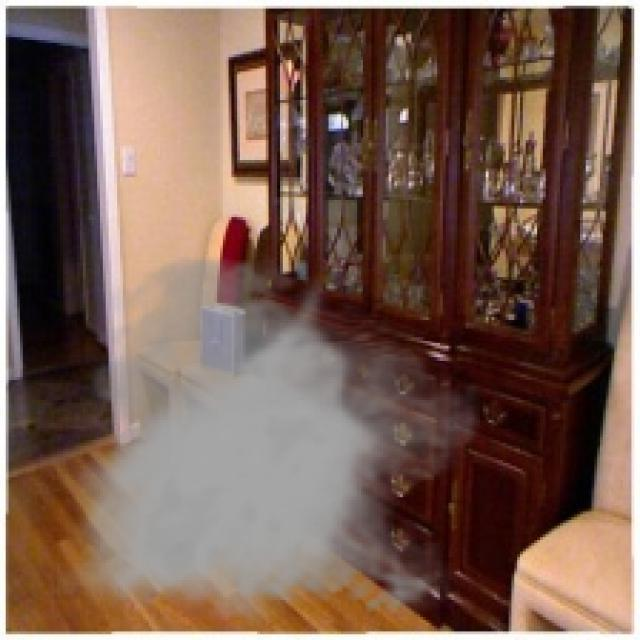Smoke: (57, 251, 480, 626)
